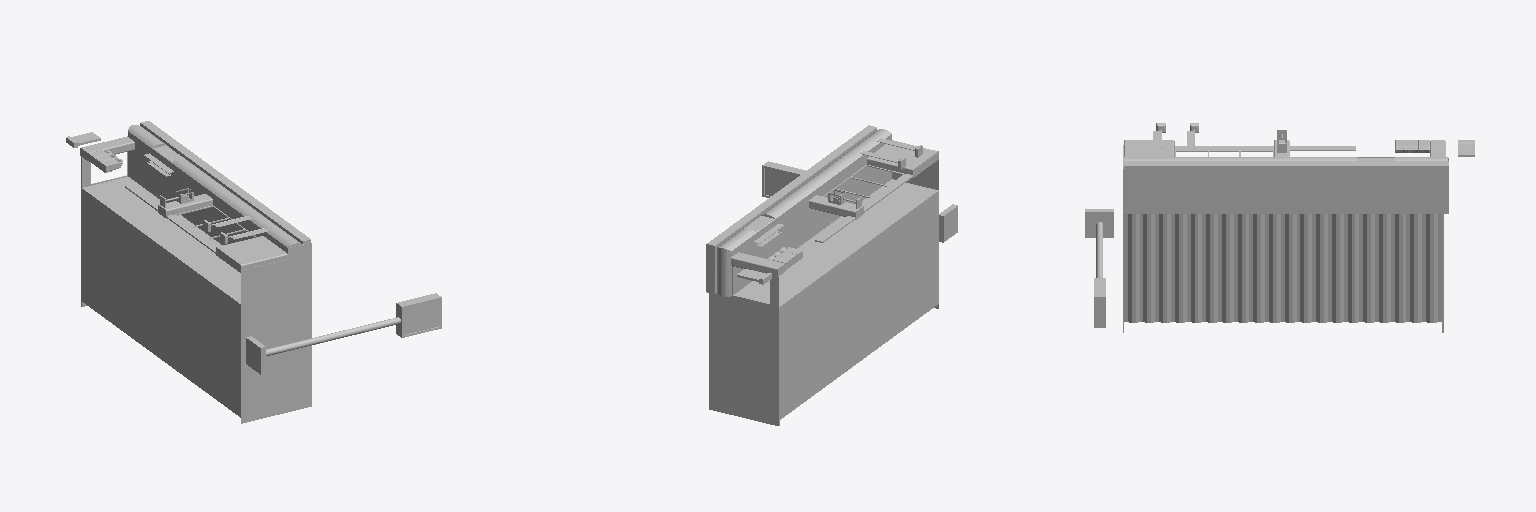
The model's file is 窓ドアなし.obj.
3 renders of one model, left to right at view 1: azimuth 30°, elevation 25°; view 2: azimuth 150°, elevation 25°; view 3: azimuth 270°, elevation 25°, orthographic.
Bounding box in the file's own units: 9.36 × 8.46 × 17.01.